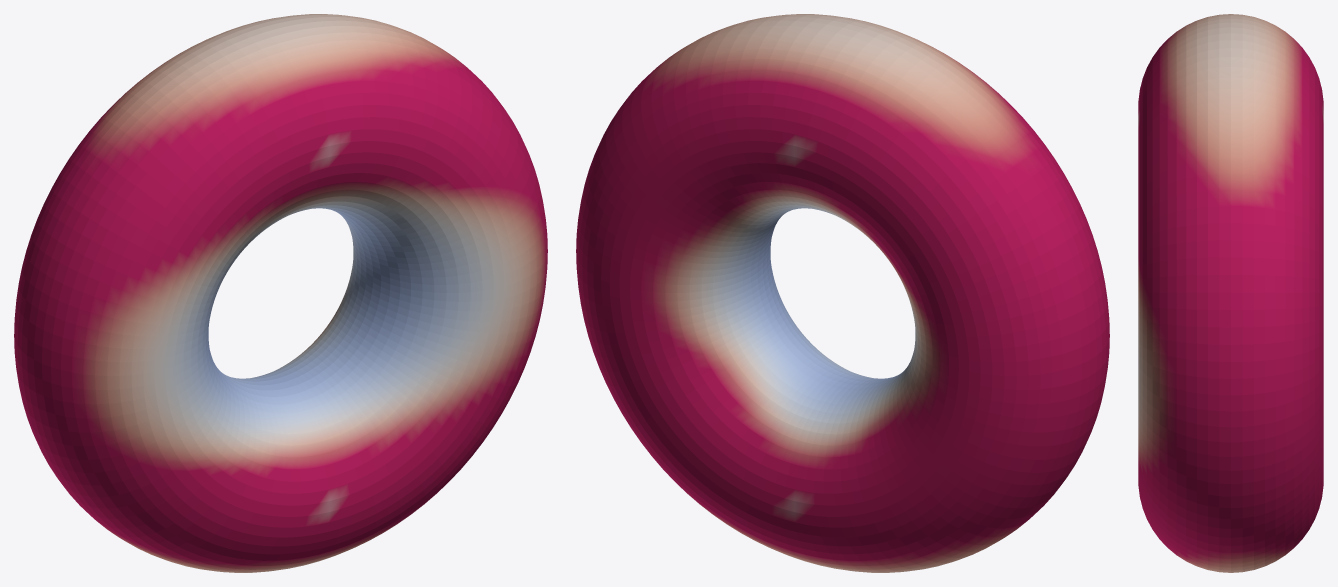
The picture shows the model from 3 angles, left to right: view 1: azimuth 30°, elevation 25°; view 2: azimuth 150°, elevation 25°; view 3: azimuth 270°, elevation 25°; orthographic projection. The views are drawn at different scales.
Visible parts, largest first — view 1: world; view 2: world; view 3: world.
Part boxes in pixels (bbox=[...]): world: bbox=[14, 14, 547, 572]; world: bbox=[576, 14, 1109, 572]; world: bbox=[1138, 14, 1323, 572].
Bounding box in the file's own units: 26.93 × 26.93 × 8.92.
